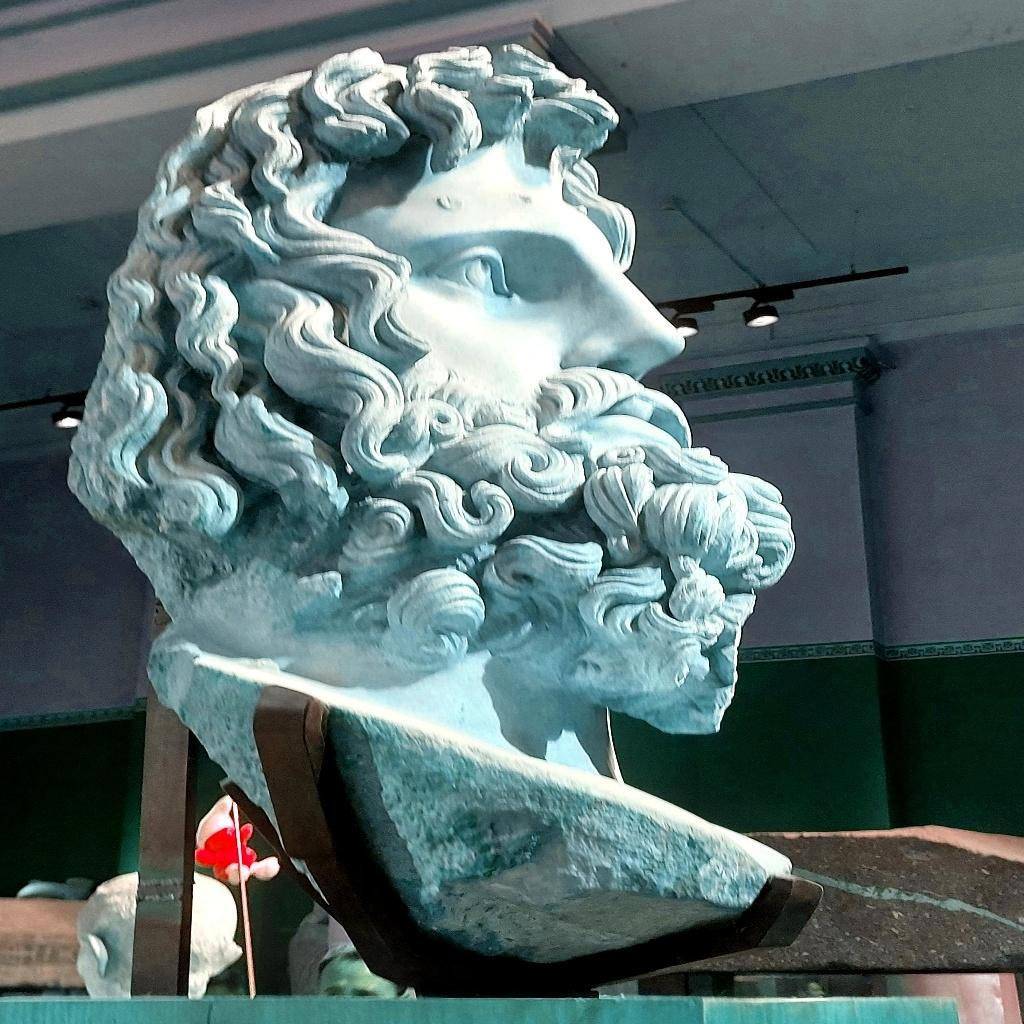Clossal Head of the god Serapis: (62, 43, 803, 773)
